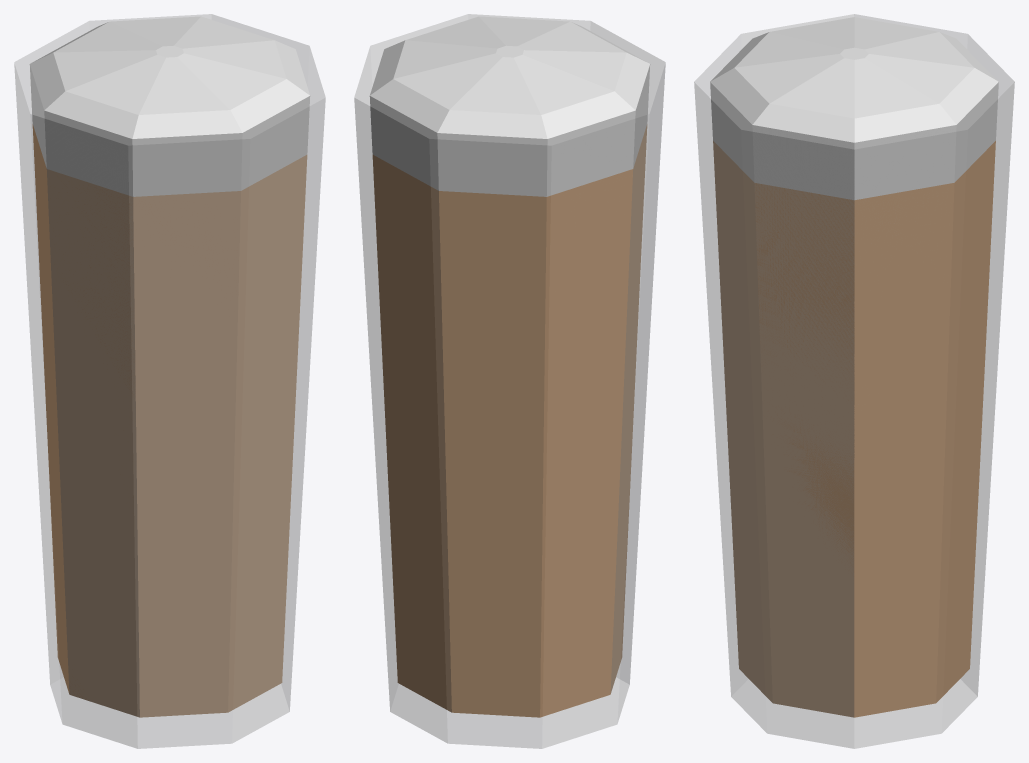
Rendered from Beer Glass.fbx.
3 renders of one model, left to right at view 1: azimuth 30°, elevation 25°; view 2: azimuth 150°, elevation 25°; view 3: azimuth 270°, elevation 25°, orthographic.
Visible parts, largest first — view 1: Beer Glass, Beer Liquid 1, Beer Liquid 2, Beer Liquid 3, Beer Liquid 4, Beer Liquid 5; view 2: Beer Glass, Beer Liquid 1, Beer Liquid 2, Beer Liquid 3, Beer Liquid 4, Beer Liquid 5; view 3: Beer Glass, Beer Liquid 1, Beer Liquid 2, Beer Liquid 4, Beer Liquid 5, Beer Liquid 3.
Part boxes in pixels (x1,y1,x2,y2): Beer Glass: (14,14,325,748); Beer Liquid 1: (29,16,310,717); Beer Liquid 2: (37,231,237,702); Beer Liquid 3: (42,338,139,717); Beer Liquid 4: (47,444,136,698); Beer Liquid 5: (52,551,69,693); Beer Glass: (354,14,665,748); Beer Liquid 1: (369,16,650,582); Beer Liquid 2: (377,231,642,689); Beer Liquid 3: (382,366,626,699); Beer Liquid 4: (387,472,627,670); Beer Liquid 5: (392,577,614,717); Beer Glass: (694,14,1014,748); Beer Liquid 1: (710,17,998,717); Beer Liquid 2: (758,248,990,510); Beer Liquid 4: (854,458,980,613); Beer Liquid 5: (854,564,974,717); Beer Liquid 3: (764,352,985,503).
Size of the model in its own units: 52 by 115 by 52.
